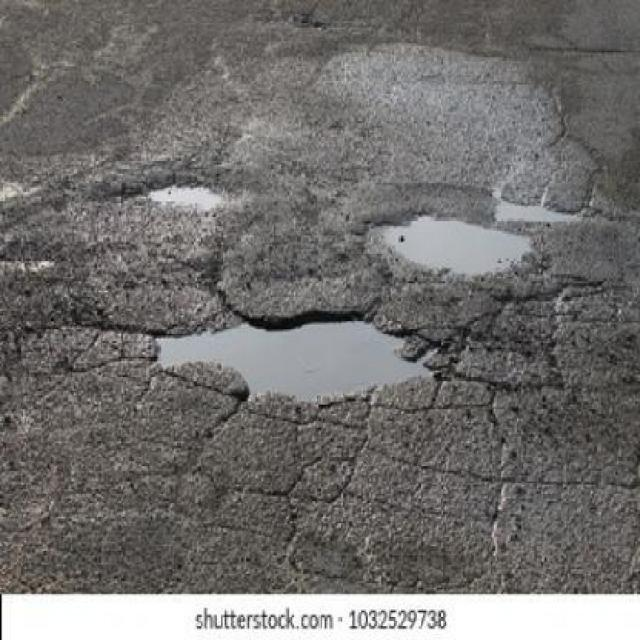pothole: (147, 311, 436, 408)
